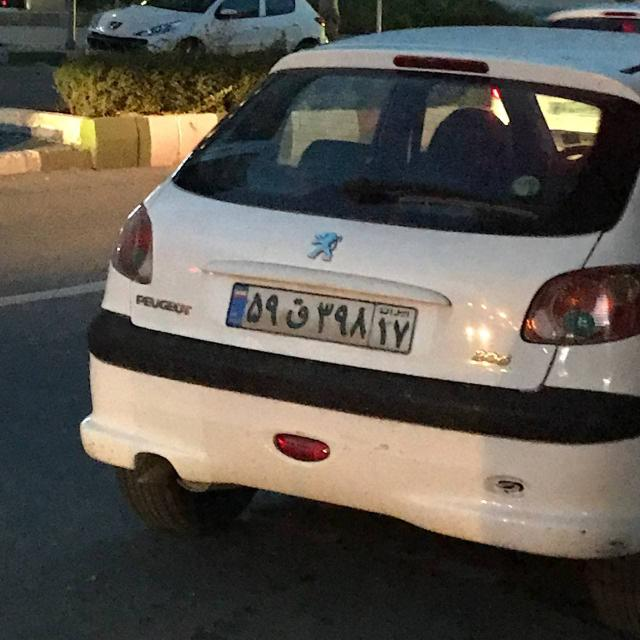Plates: (226, 283, 417, 354)
